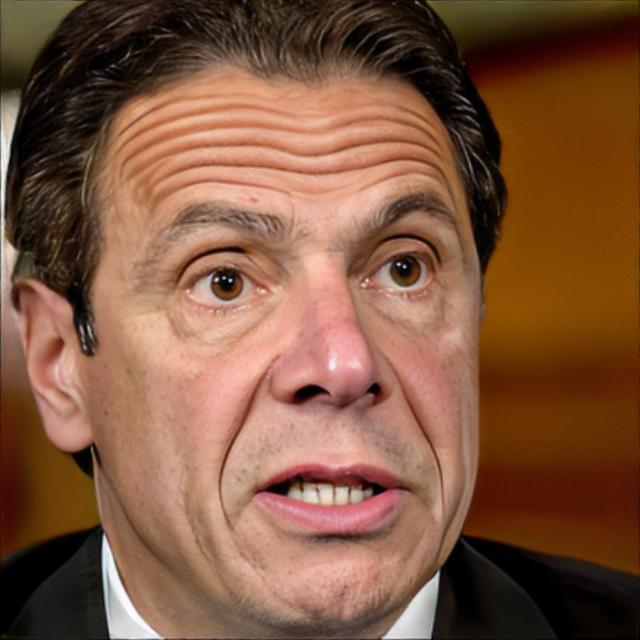fear: (86, 88, 486, 632)
